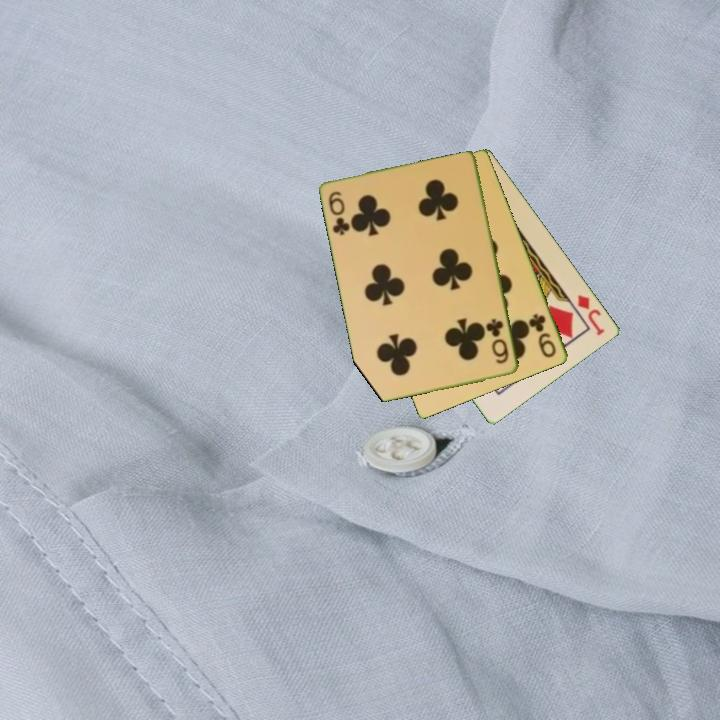6c: (484, 315, 512, 367), (325, 188, 353, 238)
9c: (526, 310, 559, 361)
Jd: (574, 291, 608, 339)
